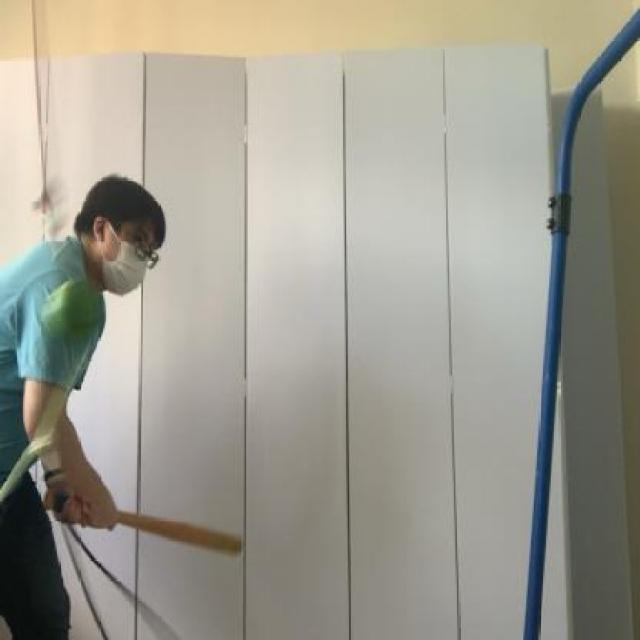baseball: (35, 270, 108, 353)
